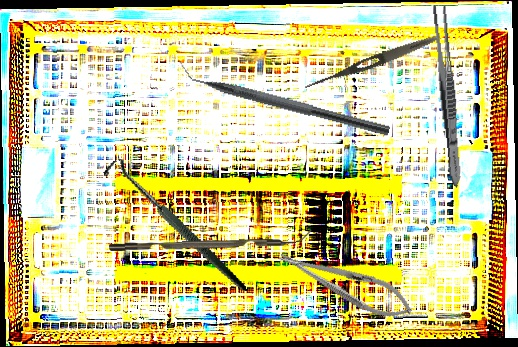Chopper: (172, 57, 394, 137), (108, 230, 313, 251)
Dressing Forceps: (302, 31, 440, 95), (429, 1, 466, 189)
Hook Surgical: (101, 134, 247, 322)
Needle Holder: (273, 239, 419, 328)
